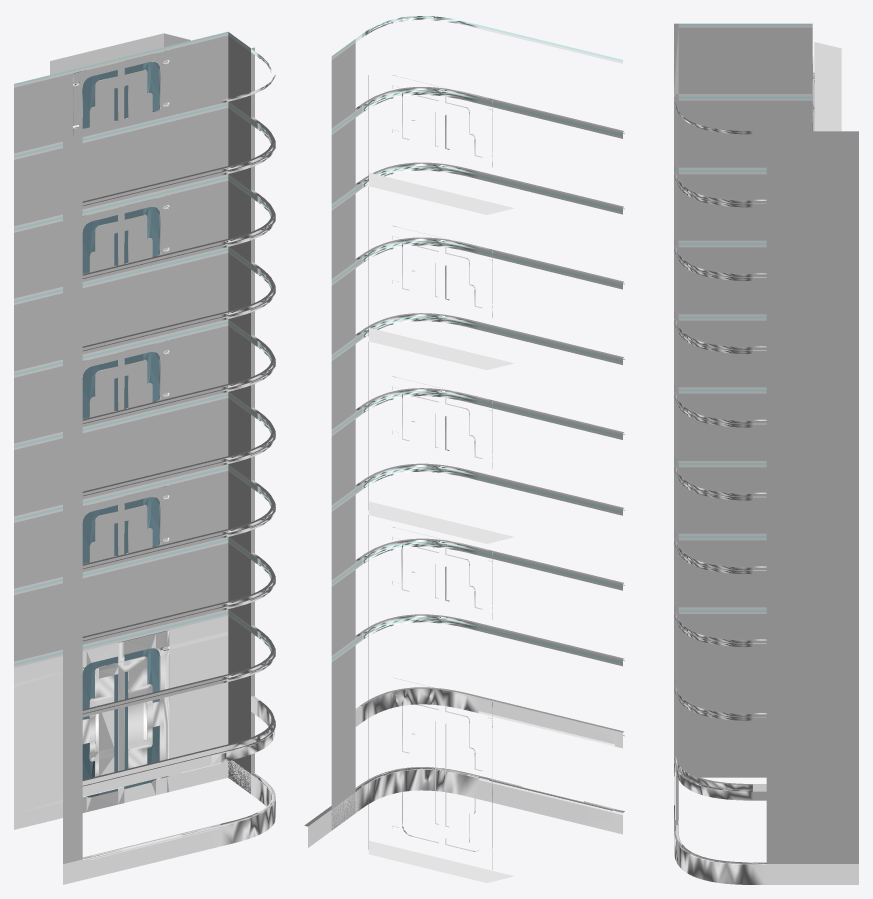
File: deluxe_elevator_shaft_02m.glb
3 views of the same model, side by side, from view 1: azimuth 30°, elevation 25°; view 2: azimuth 150°, elevation 25°; view 3: azimuth 270°, elevation 25° (orthographic). The views are drawn at different scales.
Size of the model in its own units: 12 by 36 by 8.
